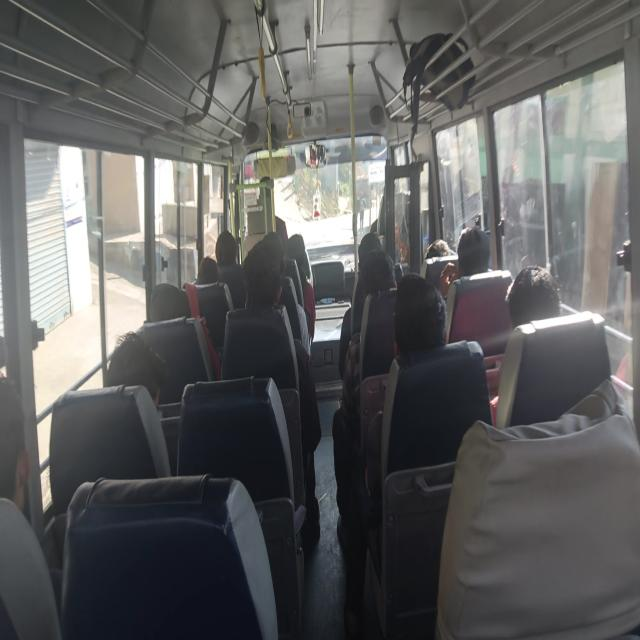person: (435, 376, 639, 638), (358, 272, 493, 636), (239, 232, 322, 548), (0, 376, 61, 638), (488, 264, 562, 424), (275, 215, 316, 346), (105, 330, 168, 410), (0, 376, 31, 516), (439, 225, 491, 299), (505, 264, 561, 329), (214, 230, 247, 310), (215, 230, 239, 267), (196, 256, 219, 285), (394, 220, 408, 264), (425, 238, 452, 260)
